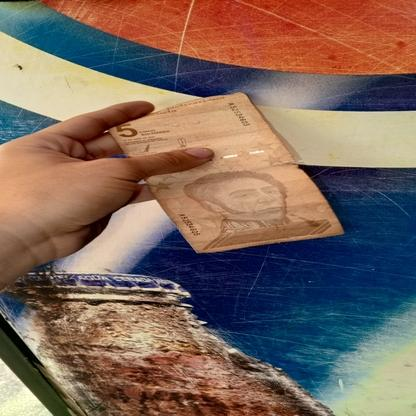five-front-vef: (107, 92, 345, 254)
